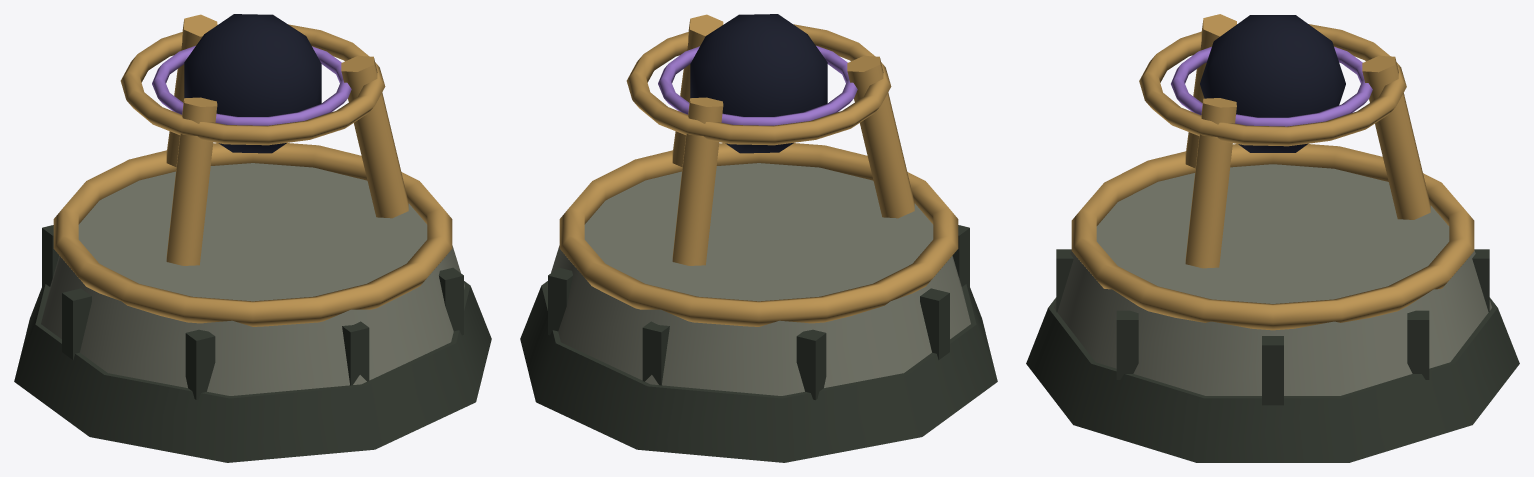
Rendered from tower_gravity_gravityWell.glb.
The picture shows the model from 3 angles, left to right: view 1: azimuth 30°, elevation 25°; view 2: azimuth 150°, elevation 25°; view 3: azimuth 270°, elevation 25°; orthographic projection.
Parts seen in each view (by area): view 1: stone_1, foot_0, rim_2, black_hole_11, orbit_16, claw_14, claw_13, accretion_15, mortar_6, mortar_7, claw_12, mortar_5 (+2 smaller); view 2: stone_1, foot_0, rim_2, black_hole_11, orbit_16, claw_12, claw_14, accretion_15, mortar_8, mortar_7, claw_13, mortar_9 (+2 smaller); view 3: stone_1, foot_0, rim_2, black_hole_11, orbit_16, claw_13, claw_12, accretion_15, mortar_3, mortar_4, mortar_10, claw_14 (+2 smaller).
Part boxes in pixels (box(x1,y1,x2,y2)): stone_1: box(41, 163, 464, 395); foot_0: box(14, 281, 491, 462); rim_2: box(53, 143, 452, 326); black_hole_11: box(184, 14, 321, 153); orbit_16: box(120, 24, 385, 145); claw_14: box(166, 97, 217, 265); claw_13: box(341, 56, 408, 218); accretion_15: box(152, 45, 351, 125); mortar_6: box(185, 329, 215, 399); mortar_7: box(62, 288, 91, 359); claw_12: box(166, 14, 217, 166); mortar_5: box(342, 321, 369, 385); stone_1: box(547, 163, 970, 395); foot_0: box(520, 281, 997, 462); rim_2: box(559, 143, 958, 326); black_hole_11: box(690, 14, 827, 153); orbit_16: box(626, 24, 891, 145); claw_12: box(672, 97, 723, 265); claw_14: box(847, 56, 914, 218); accretion_15: box(658, 45, 857, 125); mortar_8: box(796, 329, 826, 399); mortar_7: box(920, 288, 949, 359); claw_13: box(672, 14, 723, 166); mortar_9: box(642, 321, 669, 385); stone_1: box(1054, 164, 1491, 395); foot_0: box(1026, 297, 1519, 462); rim_2: box(1071, 144, 1474, 330); black_hole_11: box(1200, 15, 1345, 152); orbit_16: box(1139, 24, 1406, 146); claw_13: box(1185, 98, 1236, 268); claw_12: box(1362, 56, 1430, 219); accretion_15: box(1171, 46, 1372, 126); mortar_3: box(1262, 336, 1283, 405); mortar_4: box(1116, 310, 1138, 379); mortar_10: box(1407, 310, 1429, 379); claw_14: box(1185, 14, 1236, 168).
Size of the model in its own units: 0.5326 by 0.433 by 0.56.
